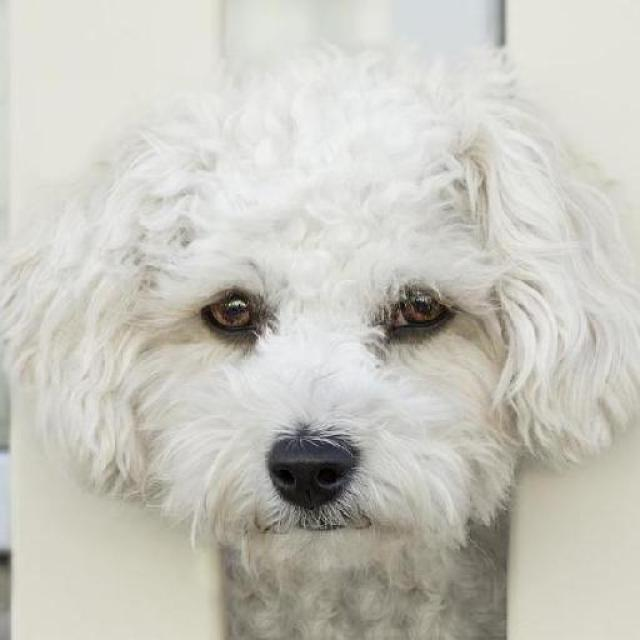sad: (11, 73, 640, 545)
